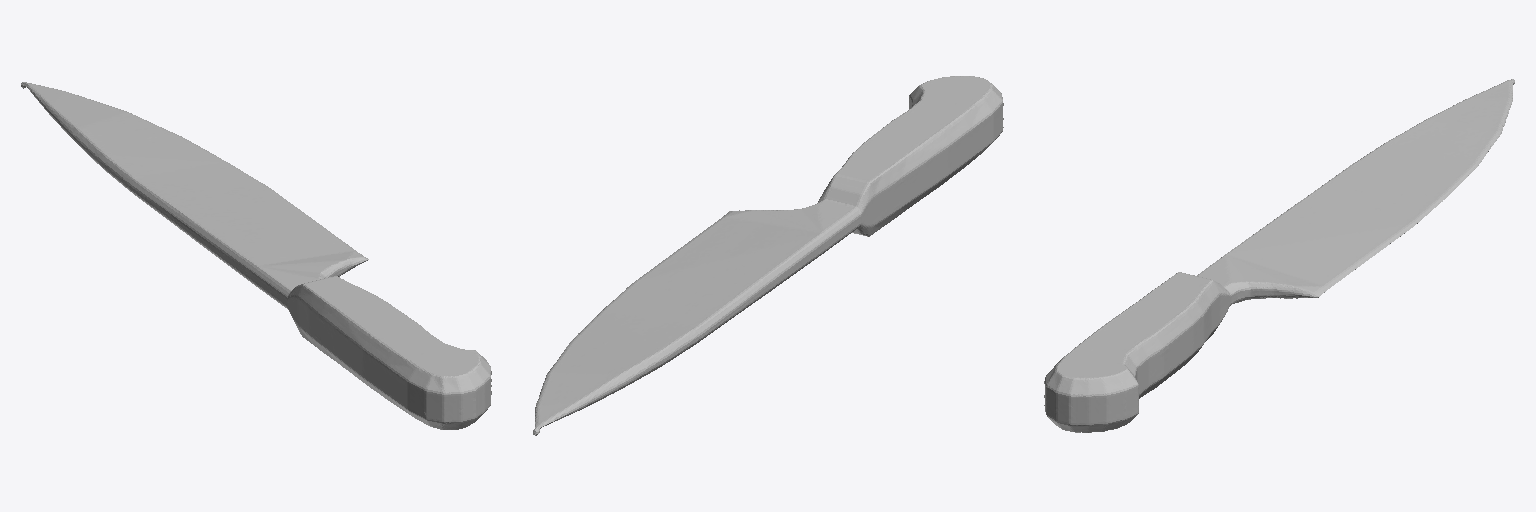
robot.urdf — root:
<robot name="root">
  <link name="link_001">
    <visual>
      <origin xyz="0 0 0" rpy="0 0 0"/>
      <geometry>
        <mesh filename="knife.obj" scale="0.600E+00 0.600E+00 0.6000E+00"/>
      </geometry>
      <material name="">
        <color rgba="7.50E-01 7.50E-01 7.50E-01 1"/>
      </material>
    </visual>
    <collision>
      <origin xyz="0 0 0" rpy="0 0 0"/>
      <geometry>
        <mesh filename="knife.obj" scale="0.6000E+00 0.6000E+00 0.6000E+00"/>
      </geometry>
    </collision>
    <inertial>
      <mass value="0.16"/> <!-- 质量：0.1kg -->
    </inertial>
  </link>
</robot>

--- What the picture shows (computed from the rendered views, not written in the file) ---
The picture shows the robot from 3 angles, left to right: view 1: azimuth 30°, elevation 25°; view 2: azimuth 150°, elevation 25°; view 3: azimuth 330°, elevation 25°; orthographic projection.
Robot: root — 1 links, 0 joints (none); root link link_001; default pose: all joints at 0.
Links seen in each view (by area): view 1: link_001; view 2: link_001; view 3: link_001.
Link boxes in pixels (left/top/right/bottom): link_001: left=21, top=82, right=491, bottom=429; link_001: left=533, top=76, right=1003, bottom=435; link_001: left=1044, top=79, right=1514, bottom=432.
Size in the robot's own frame: 0.0192 by 0.1332 by 0.0089 metres.
1 mesh visuals loaded from 1 distinct referenced files (1 OBJ).
